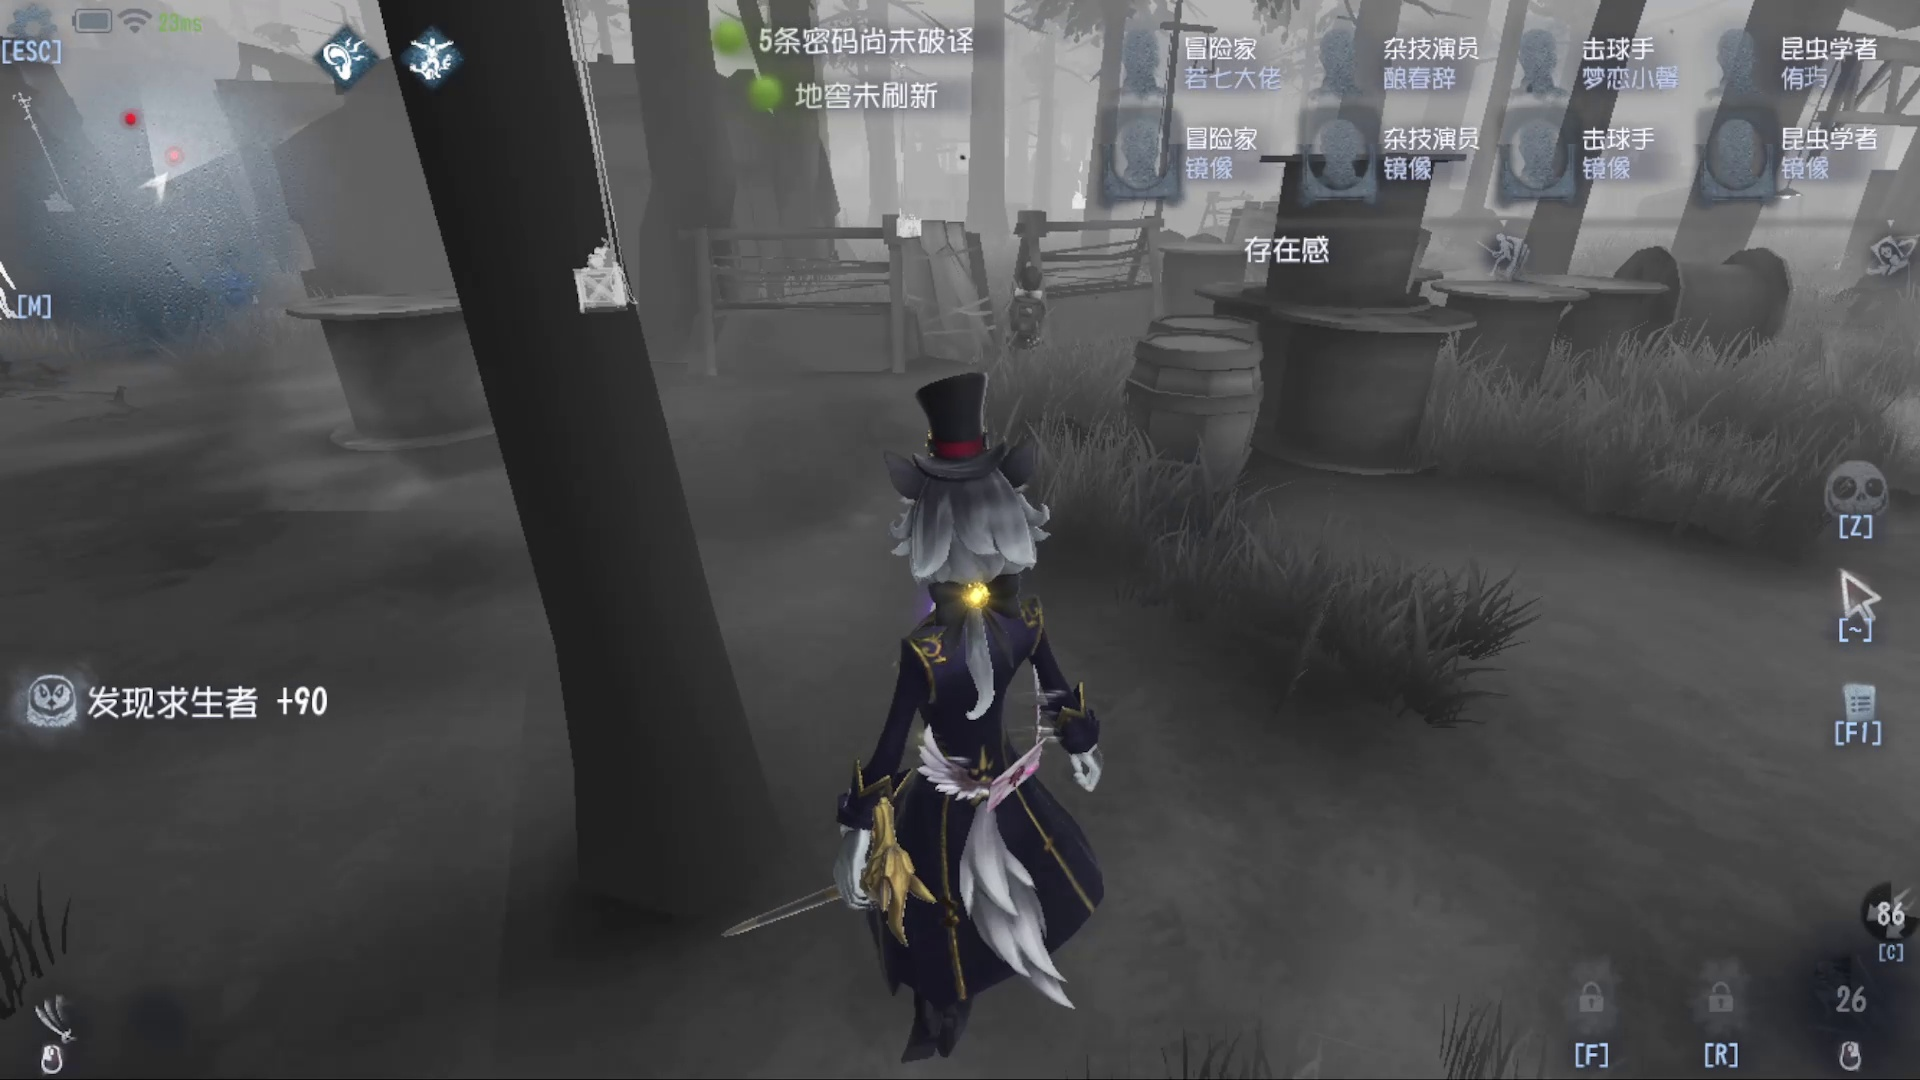密码机: (522, 15, 647, 320)
木板: (881, 200, 1006, 382)
求生者: (1002, 262, 1065, 357)
